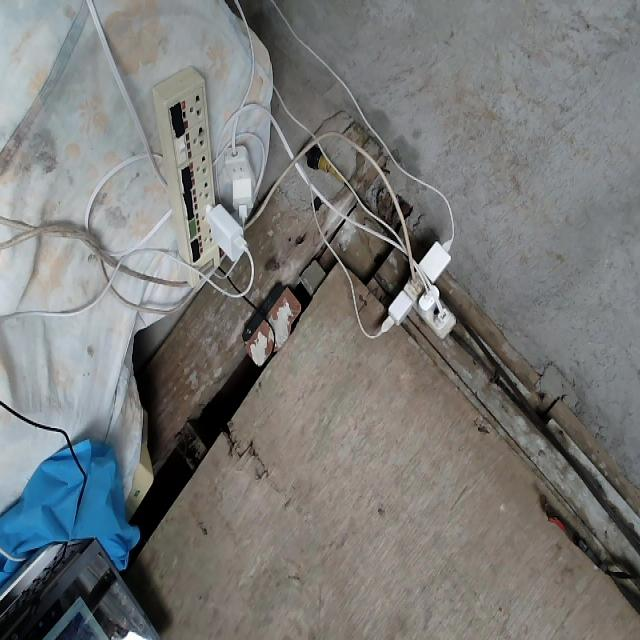-: (378, 231, 455, 340)
